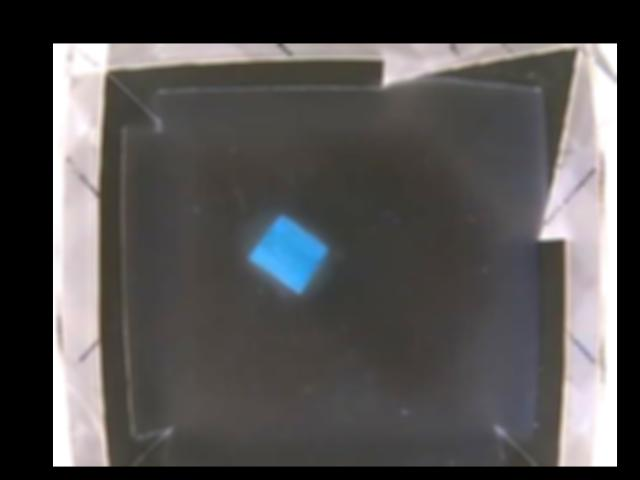Carrot: (248, 217, 325, 289)
